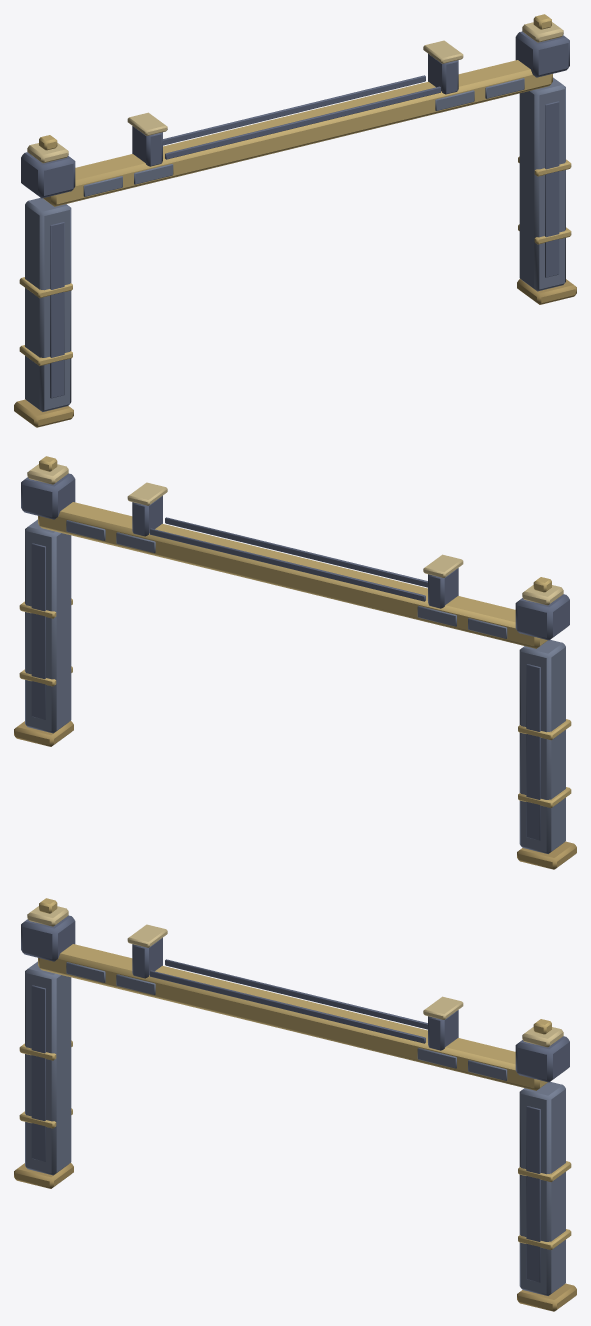
File: space_start_gantry.glb
The picture shows the model from 3 angles, top to bottom: view 1: azimuth 30°, elevation 25°; view 2: azimuth 150°, elevation 25°; view 3: azimuth 330°, elevation 25°; orthographic projection.
Visible parts, largest first — view 1: space_start_gantry; view 2: space_start_gantry; view 3: space_start_gantry.
Part boxes in pixels (x1,y1,x2,y2): space_start_gantry: [14, 14, 576, 427]; space_start_gantry: [14, 456, 576, 869]; space_start_gantry: [14, 898, 576, 1311].
Bounding box in the file's own units: 58.4 × 28.5 × 4.3.
